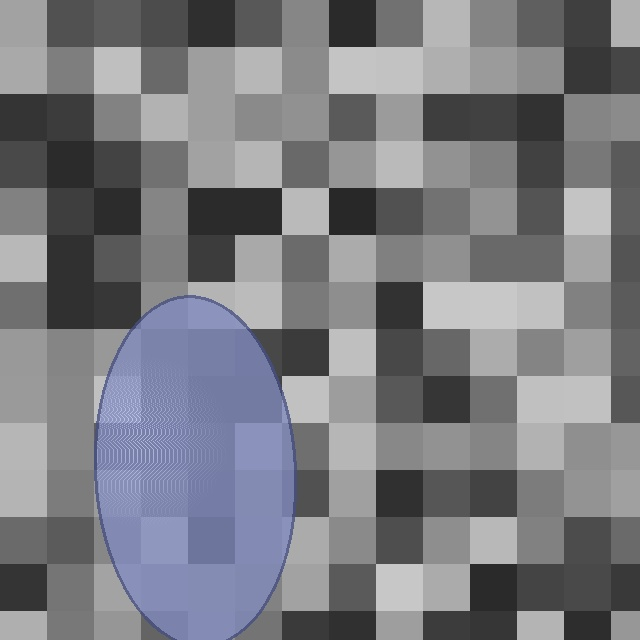lens: (95, 296, 295, 640)
